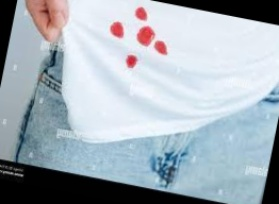blood: (135, 25, 156, 47), (108, 21, 126, 39), (152, 39, 170, 55), (134, 6, 149, 22), (125, 54, 138, 69)
